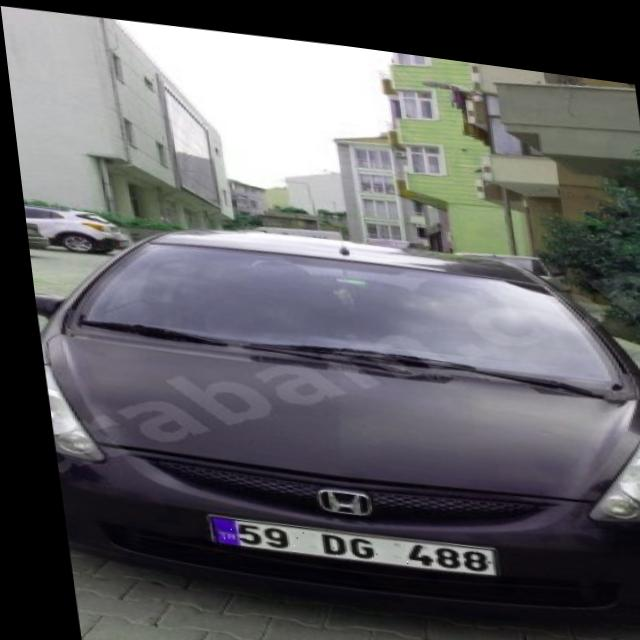license_plate: (195, 507, 484, 569)
